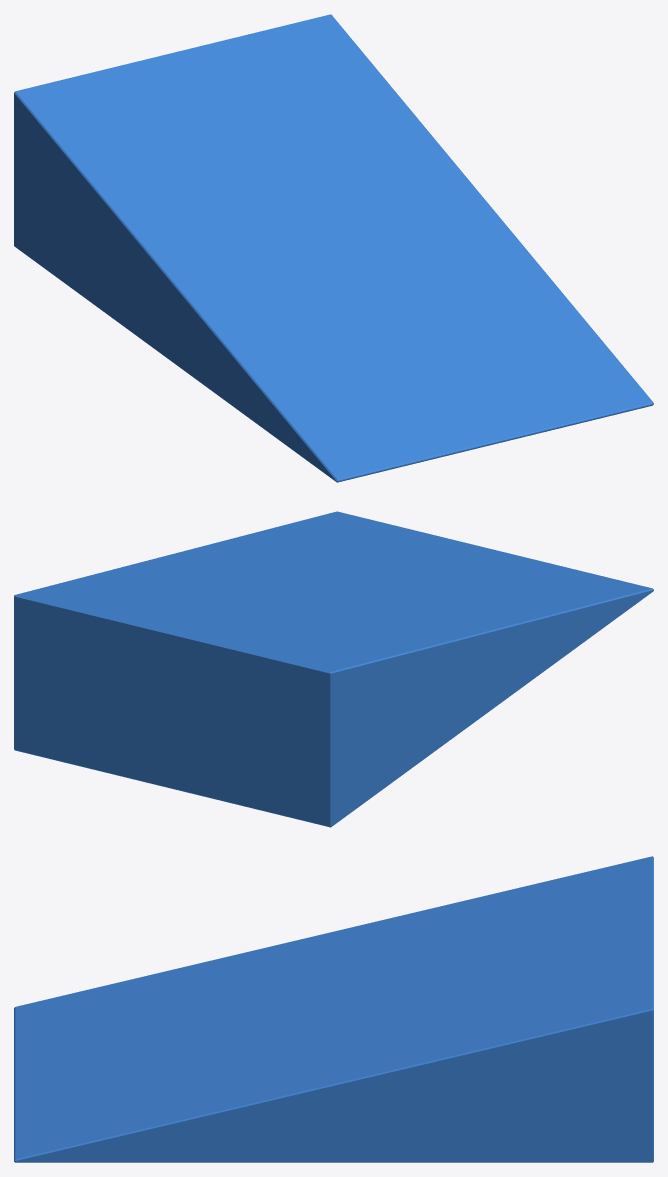
File: PLF0110056.fbx
3 renders of one model, top to bottom at view 1: azimuth 30°, elevation 25°; view 2: azimuth 150°, elevation 25°; view 3: azimuth 270°, elevation 25°, orthographic.
Visible parts, largest first — view 1: smPLF0110056; view 2: smPLF0110056; view 3: smPLF0110056.
Part boxes in pixels (x1,y1,x2,y2): smPLF0110056: (14, 14, 653, 482); smPLF0110056: (14, 511, 653, 827); smPLF0110056: (14, 856, 653, 1162).
Size of the model in its own units: 235 by 110 by 413.
Materials: 1 (1 with a texture image).
